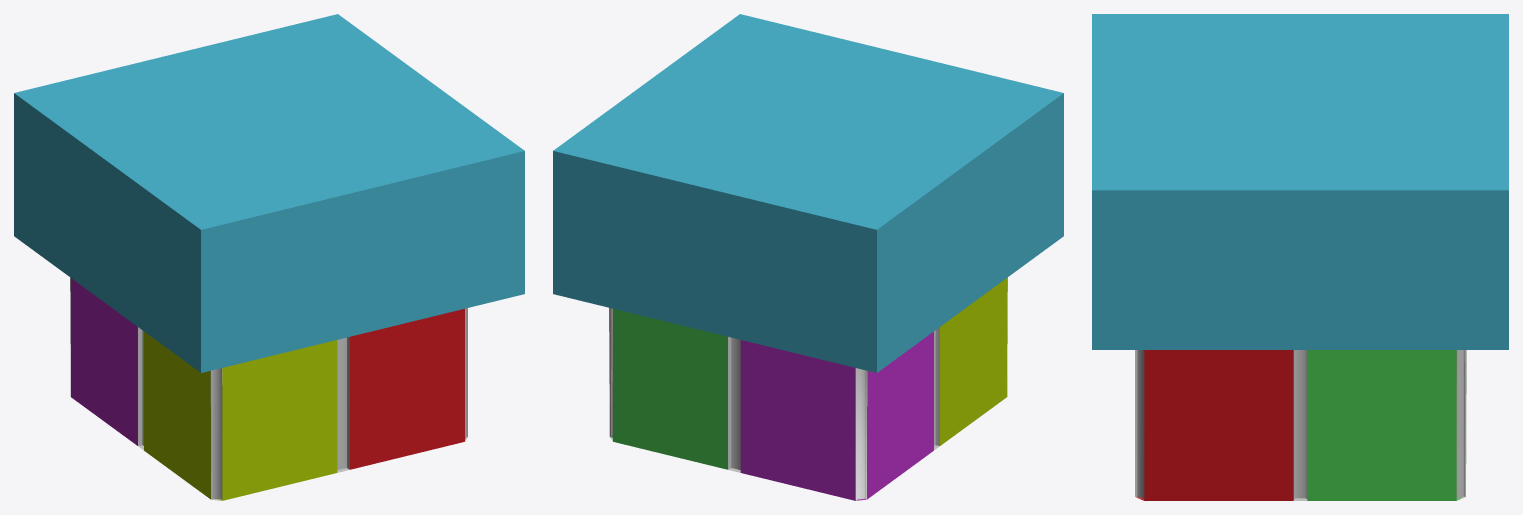
File: Cat_Lab.fbx
The picture shows the model from 3 angles, left to right: view 1: azimuth 30°, elevation 25°; view 2: azimuth 150°, elevation 25°; view 3: azimuth 270°, elevation 25°; orthographic projection. The views are drawn at different scales.
Visible parts, largest first — view 1: Cat_Lab; view 2: Cat_Lab; view 3: Cat_Lab.
Boxes of the visible parts, box(x1,y1,x2,y2) form: Cat_Lab: box(14, 14, 524, 500); Cat_Lab: box(553, 14, 1063, 500); Cat_Lab: box(1092, 14, 1508, 500).
Size of the model in its own units: 5.74 by 5 by 5.74.
